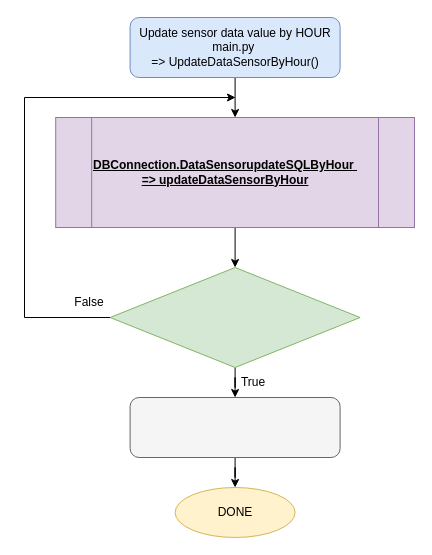
This 432x555 diagram has some shape labels left out. The shapes that lost their labels are listed below. From the top down, each one's centre as x and y in pixels, then its label:
At (234,317): "Min time query >= 15 minutes or HOUR?".
At (234,427): "DataSensorCheck() update value in SQL".
